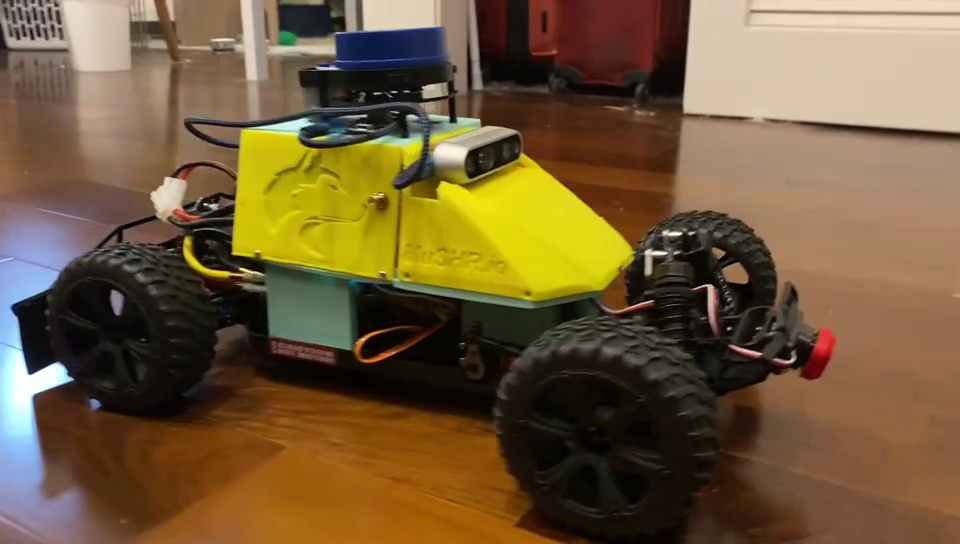mushr_car: (16, 20, 836, 539)
